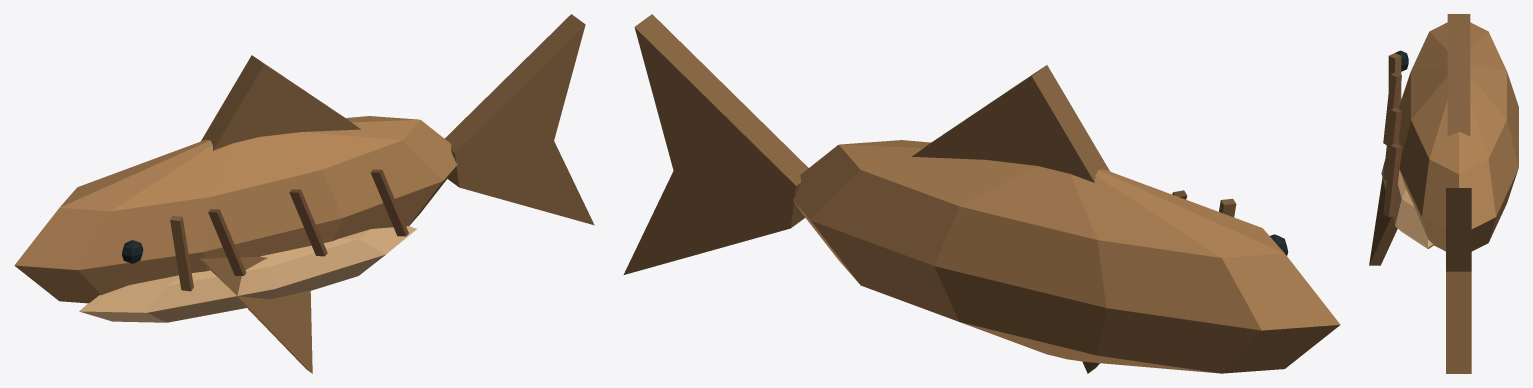
The model's file is fish.glb.
3 renders of one model, left to right at view 1: azimuth 30°, elevation 25°; view 2: azimuth 150°, elevation 25°; view 3: azimuth 270°, elevation 25°, orthographic. The views are drawn at different scales.
Parts seen in each view (by area): view 1: fish; view 2: fish; view 3: fish.
Boxes of the visible parts, x1=… form: fish: x1=14, y1=14, x2=594, y2=373; fish: x1=623, y1=14, x2=1340, y2=373; fish: x1=1369, y1=14, x2=1518, y2=373.
Bounding box in the file's own units: 1 × 0.4646 × 0.2527.
